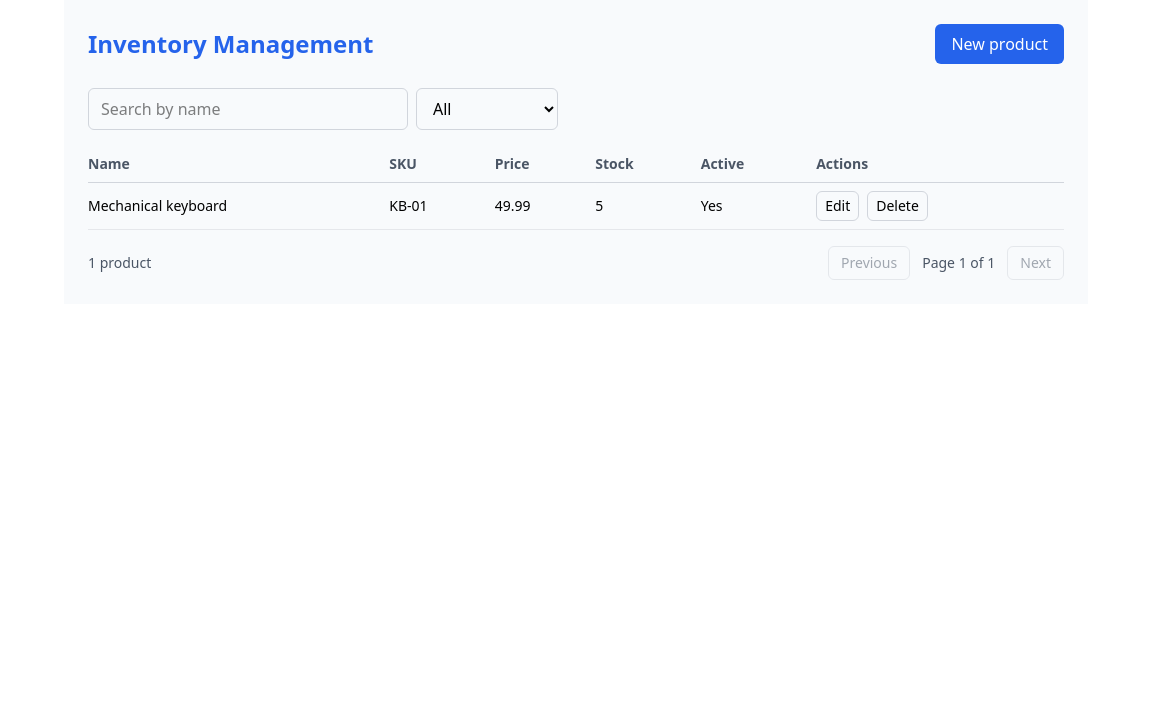
Test: delete flow › 404 informs the product was already deleted and refreshes
This screenshot has width=1152, height=720.
Check: the text "Mechanical keyboard" is shown, box [88,182,389,230]
Click the button with aria-label "Delete Mechanical keyboard".
click(898, 206)  # box [867,191,928,221]
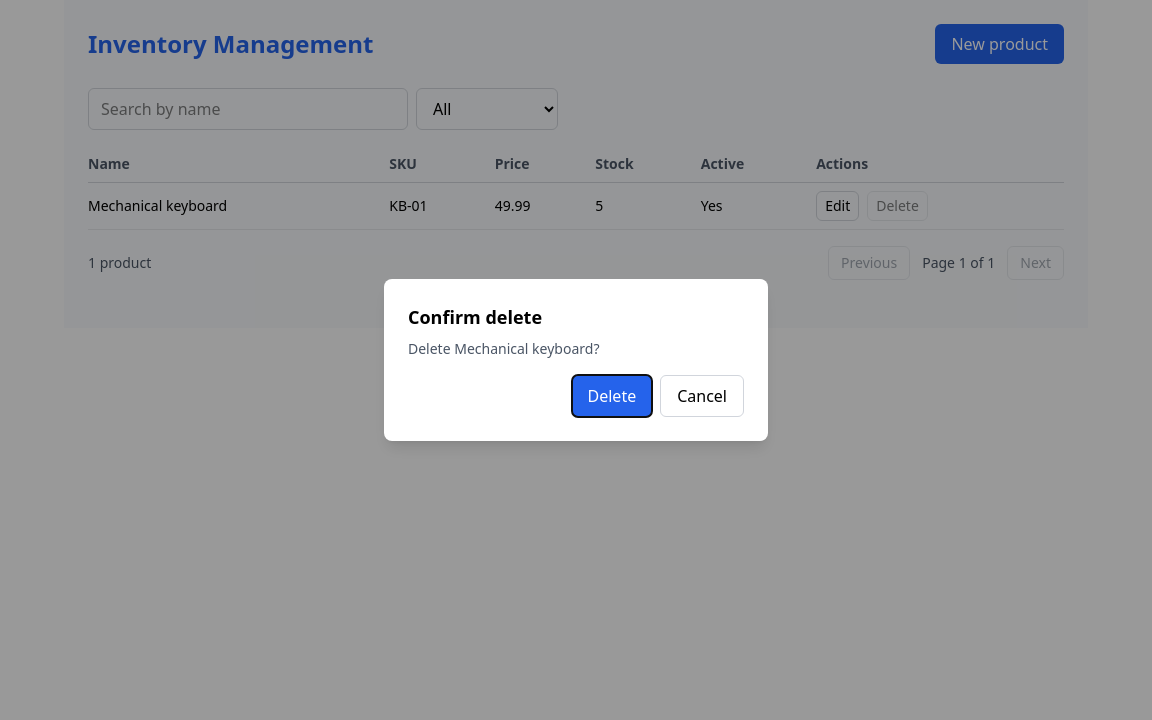
Click the button "Delete".
click(612, 396)  # box [572,375,652,417]
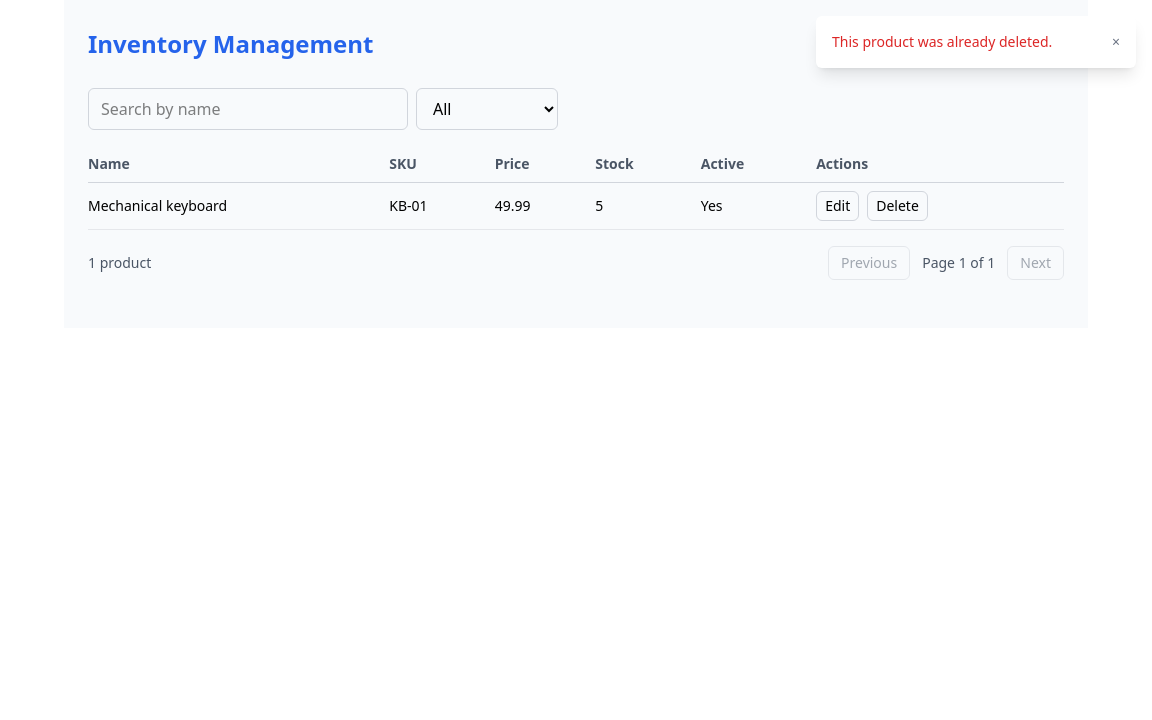
Check: the text "This product was already deleted." is shown, box [832,32,1052,51]
Check: the heading "Confirm delete" is gone
